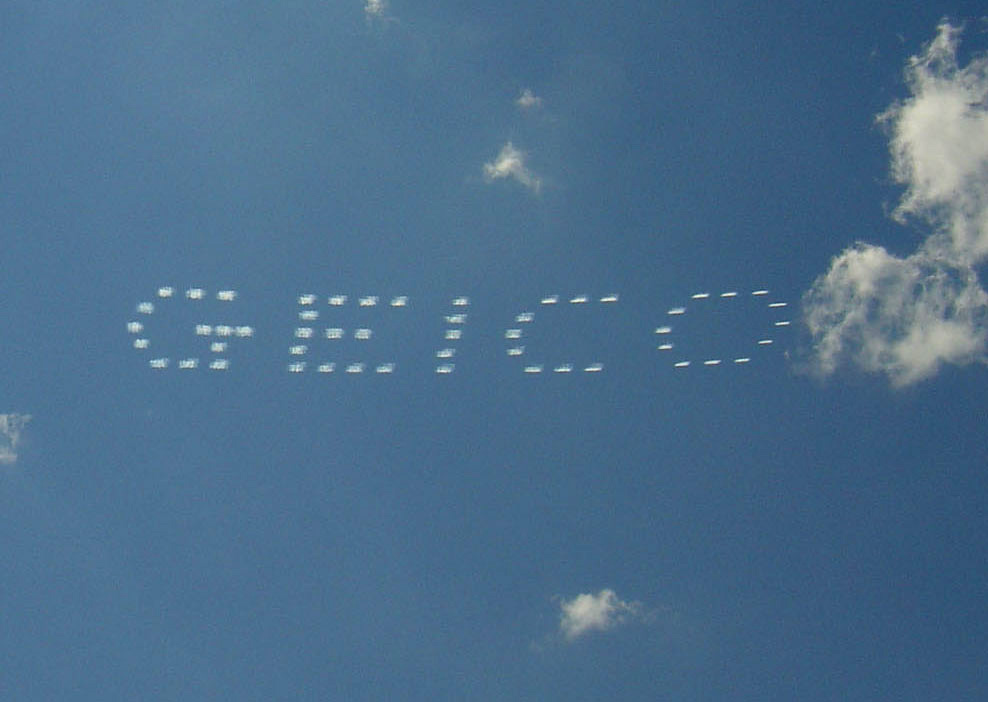geico: (121, 275, 791, 378)
